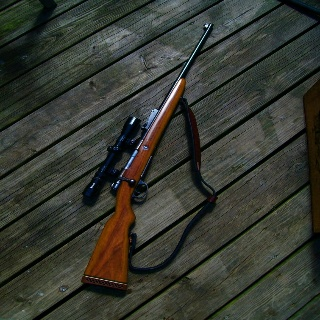rifle: (81, 21, 218, 293)
